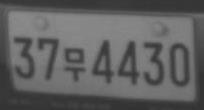0: (169, 43, 189, 86)
3: (143, 41, 164, 85), (12, 37, 34, 78)
4: (91, 39, 114, 83), (117, 40, 140, 84)
7: (37, 37, 60, 80)
무: (63, 47, 86, 81)
